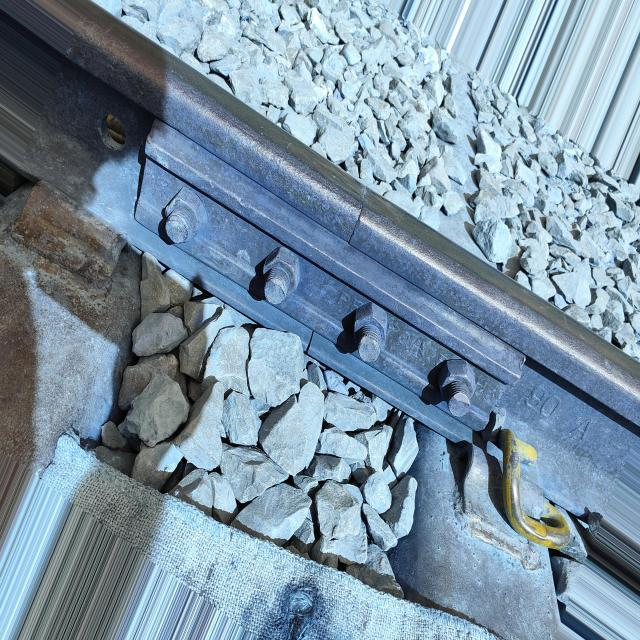Good Fasteners: (462, 429, 586, 570)
Good Joint: (130, 117, 530, 432)
